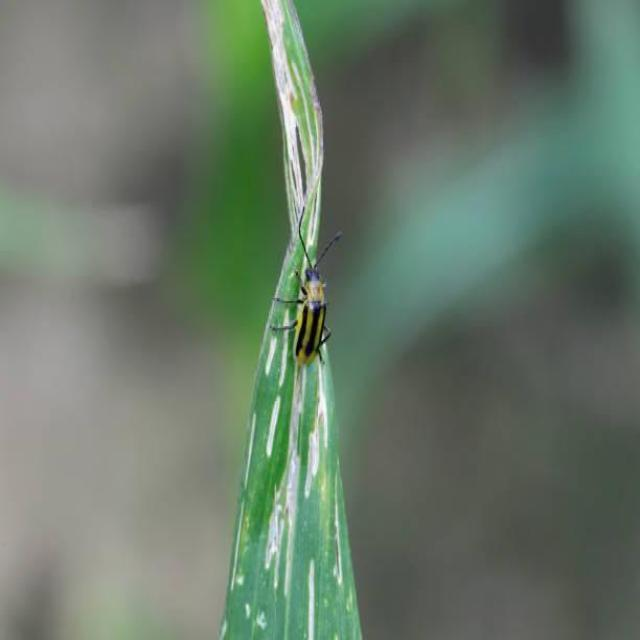trips: (270, 207, 340, 365)
